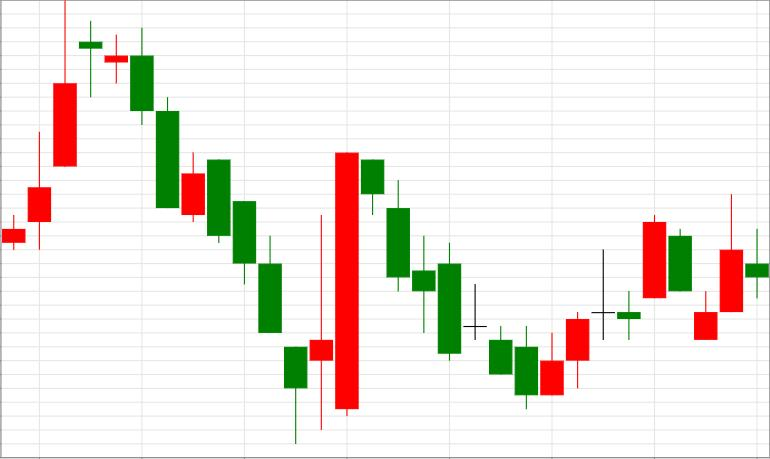hammer_rise: (130, 29, 307, 445)
